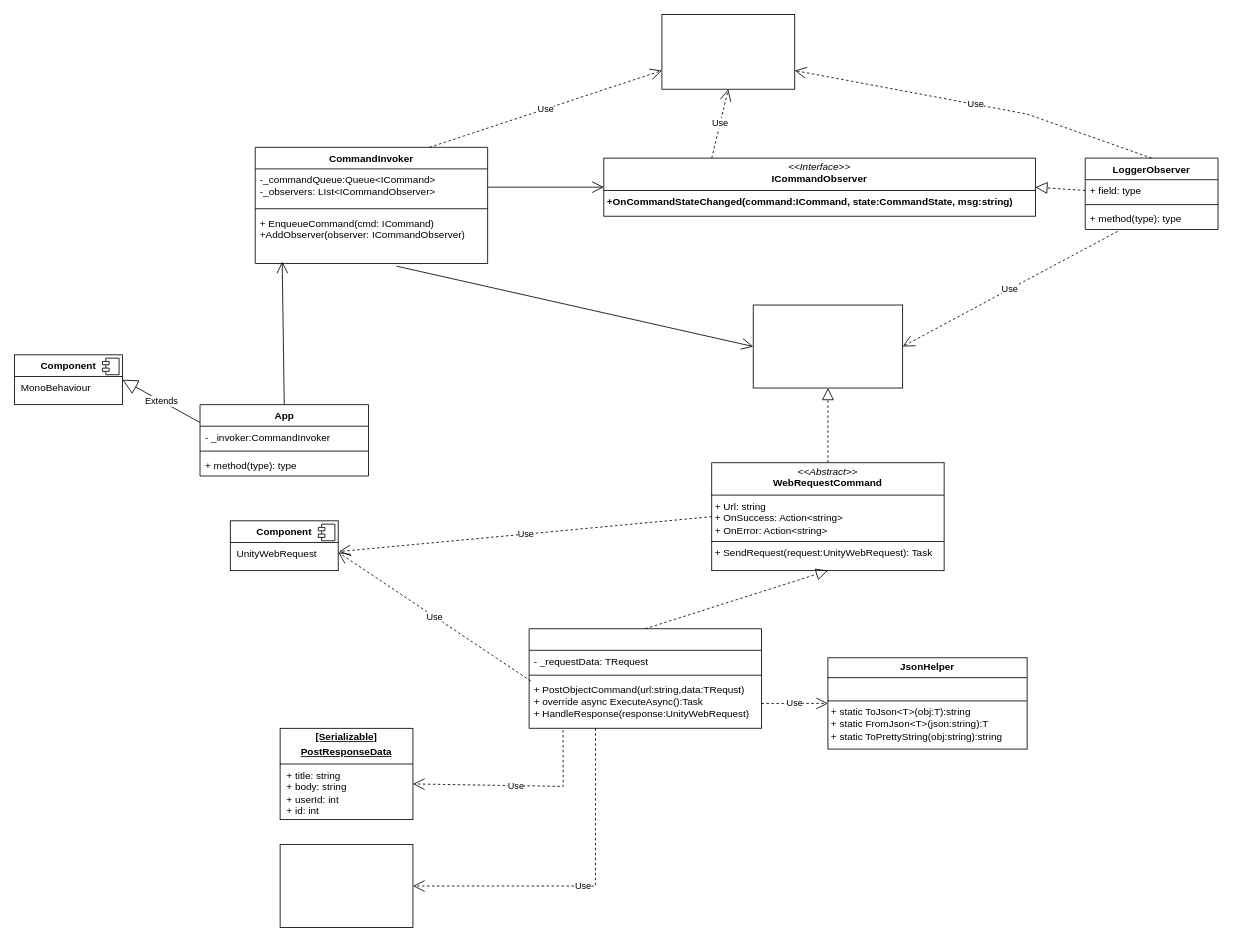
The diagram is 1233 pixels wide and 942 high, and some of its shapes have lost their labels. Each missing label, with the box of its shape:
<<Interface>> ICommand + Name: string + ExecuteAsync(): Task: (752, 304, 903, 388)
[Serializable] PostRequestData + title: string + body: string + userId: int: (279, 844, 413, 928)
CommandState:Enum Queued = 0 Started = 1 Success = 2 Error = 3: (661, 14, 795, 89)
PostObjectCommand<TRequest,TResponse>: (528, 628, 762, 728)
